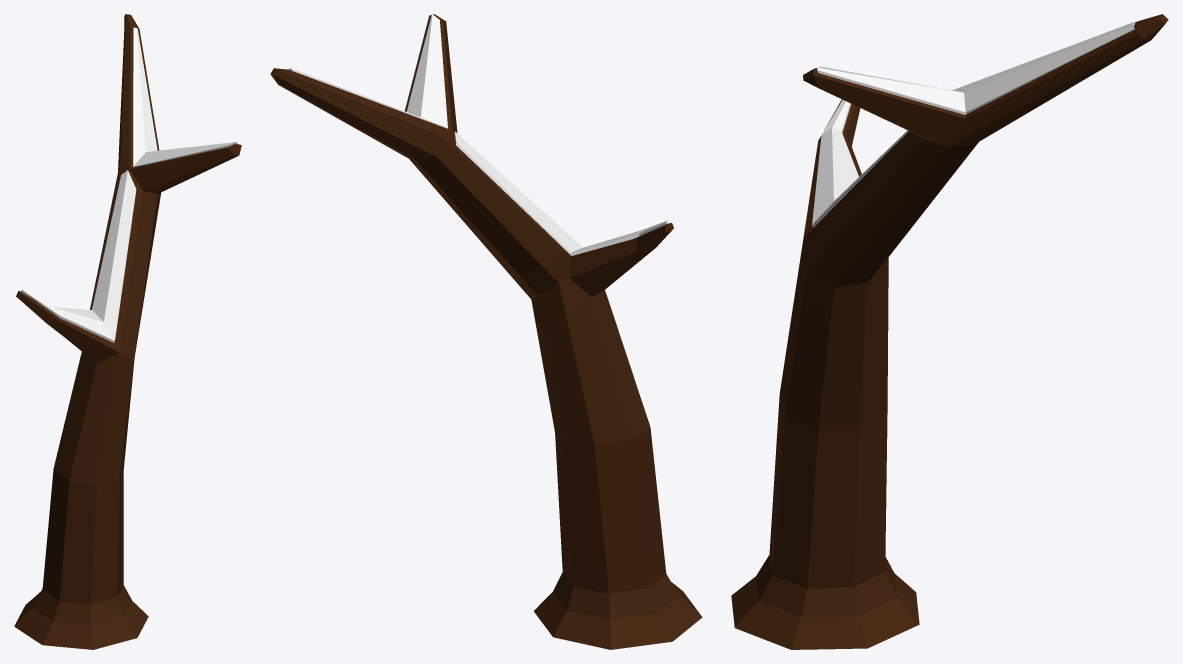
Rendered from tronco_nieve_2.fbx.
The picture shows the model from 3 angles, left to right: view 1: azimuth 30°, elevation 25°; view 2: azimuth 150°, elevation 25°; view 3: azimuth 270°, elevation 25°; orthographic projection. The views are drawn at different scales.
Visible parts, largest first — view 1: troncoNieve2:Mesh; view 2: troncoNieve2:Mesh; view 3: troncoNieve2:Mesh.
Part boxes in pixels (left/top/right/bottom): troncoNieve2:Mesh: left=14, top=14, right=241, bottom=649; troncoNieve2:Mesh: left=270, top=14, right=702, bottom=649; troncoNieve2:Mesh: left=731, top=14, right=1168, bottom=649.
Bounding box in the file's own units: 48.84 × 102 × 57.
Materials: 1 (1 with a texture image).
